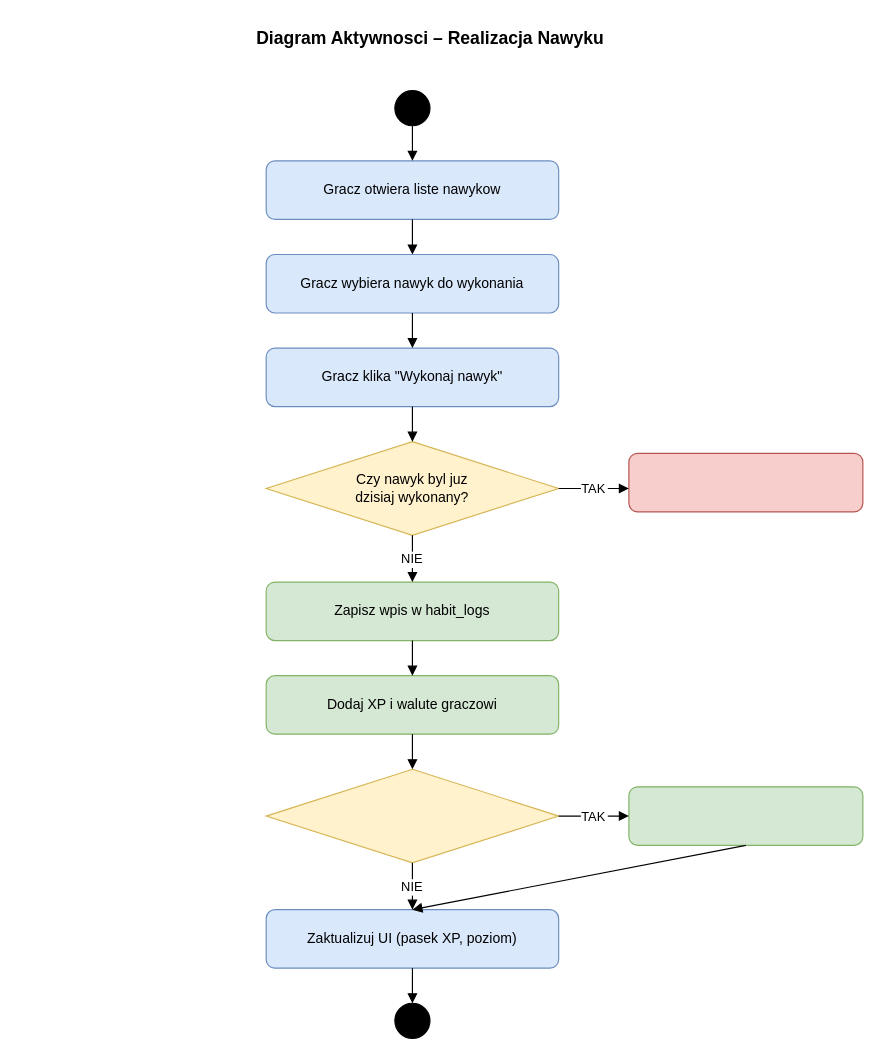
Image size: 883x1059. Some labels were removed from this diagram. Each missing label, with the centre of its shape:
Czy gracz awansuje?: (x=412, y=815)
Wyswietl blad: "Nawyk juz wykonany": (x=745, y=482)
Zwieksz poziom gracza: (x=745, y=815)
